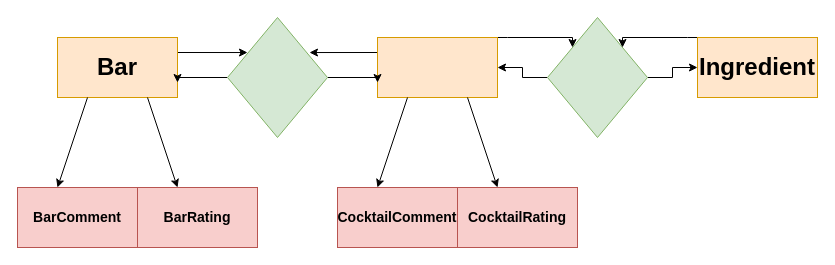
Image size: 835x265. Some labels were removed from this diagram. Here are the shapes that lost their labels. From the top down, the box of each, then its label:
(226, 16, 328, 138): BarCocktail many to many
(376, 36, 498, 98): Cocktail
(546, 16, 648, 138): CocktailIngredient many to many
